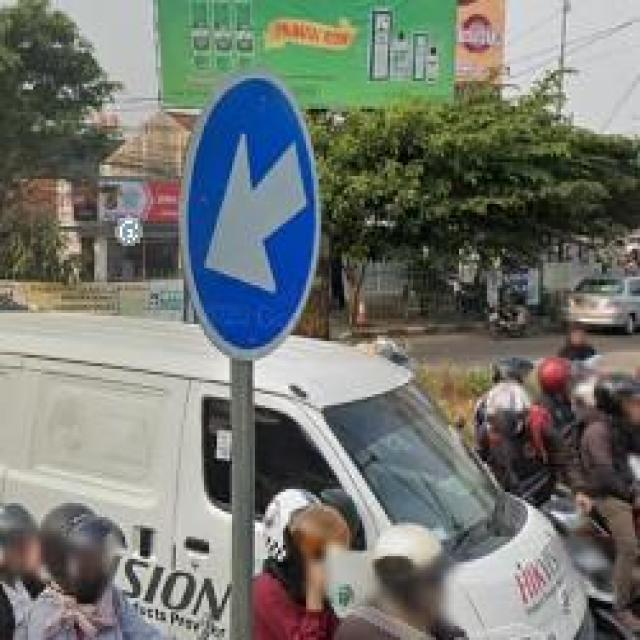traffic sign: (189, 78, 312, 347)
